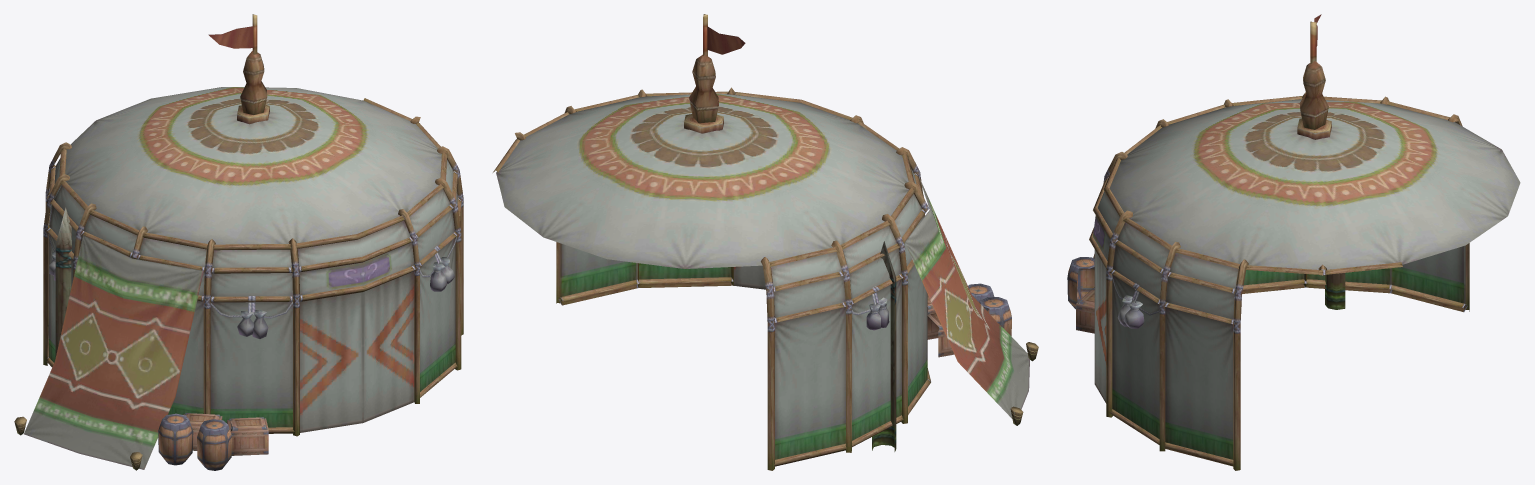
Rendered from fangzi_04.FBX.
The picture shows the model from 3 angles, left to right: view 1: azimuth 30°, elevation 25°; view 2: azimuth 150°, elevation 25°; view 3: azimuth 270°, elevation 25°; orthographic projection. The views are drawn at different scales.
Parts seen in each view (by area): view 1: fangzi_04; view 2: fangzi_04; view 3: fangzi_04.
Boxes of the visible parts, x1=… form: fangzi_04: x1=14, y1=14, x2=463, y2=470; fangzi_04: x1=493, y1=14, x2=1038, y2=470; fangzi_04: x1=1067, y1=14, x2=1520, y2=470.
Size of the model in its own units: 634 by 484 by 530.
